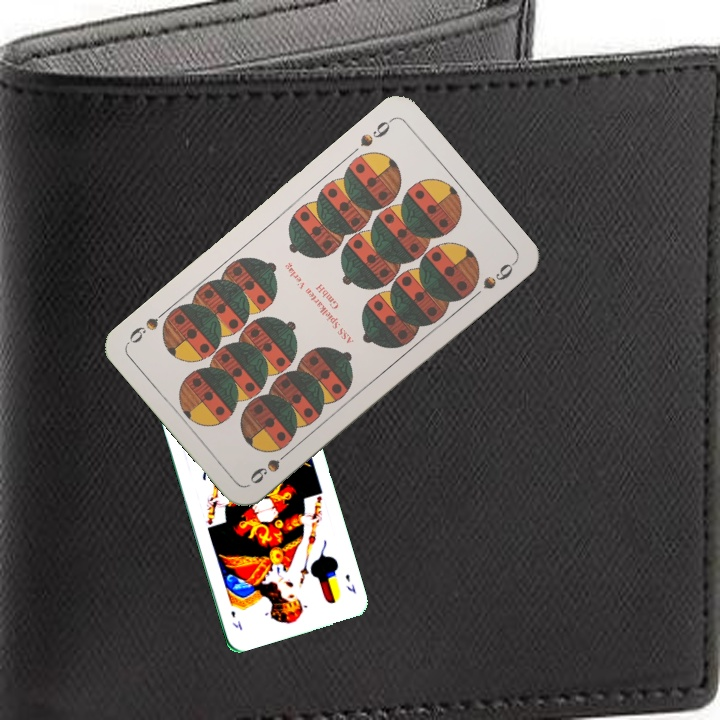EK: (341, 570, 358, 596)
S9: (246, 444, 295, 487), (356, 114, 396, 150)
